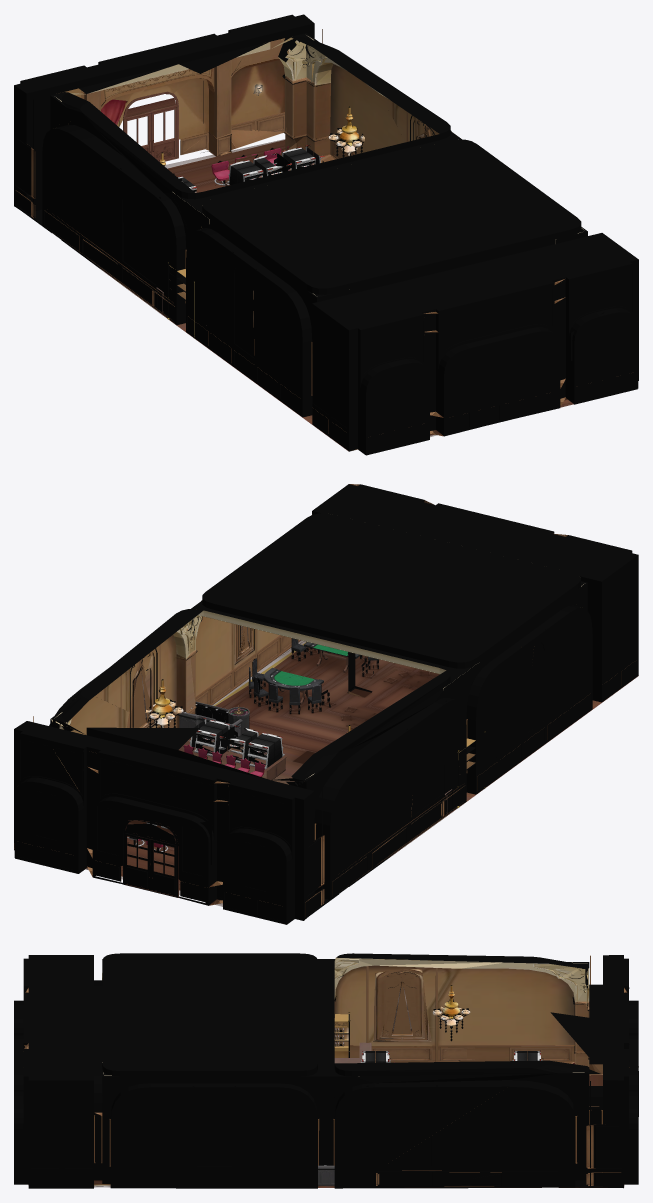
Rendered from casino-edited-uncompressed-2026-05-19.glb.
3 views of the same model, one above another, from view 1: azimuth 30°, elevation 25°; view 2: azimuth 150°, elevation 25°; view 3: azimuth 270°, elevation 25° (orthographic). The views are drawn at different scales.
Parts seen in each view (by area): view 1: Material2.001, Material3.004, Material3.006, Material3.007, Material3.005; view 2: Material2.001, Material3.006, Material3.004, Material3.007, Material3.001, Material3.005, Material2; view 3: Material2.001, Material3.004, Material3.006, Material3.005, Material3.007, Material3.001.
Boxes of the visible parts, left/top/right/bottom form: Material2.001: left=14, top=14, right=638, bottom=455; Material3.004: left=16, top=29, right=565, bottom=436; Material3.006: left=56, top=35, right=584, bottom=451; Material3.007: left=165, top=139, right=567, bottom=436; Material3.005: left=179, top=145, right=324, bottom=188; Material2.001: left=14, top=484, right=638, bottom=924; Material3.006: left=52, top=584, right=638, bottom=890; Material3.004: left=14, top=484, right=625, bottom=916; Material3.007: left=85, top=640, right=439, bottom=923; Material3.001: left=127, top=638, right=439, bottom=852; Material3.005: left=191, top=718, right=282, bottom=767; Material2: left=146, top=719, right=284, bottom=828; Material2.001: left=14, top=953, right=638, bottom=1188; Material3.004: left=23, top=955, right=629, bottom=1186; Material3.006: left=94, top=959, right=602, bottom=1187; Material3.005: left=362, top=1051, right=540, bottom=1062; Material3.007: left=28, top=1066, right=638, bottom=1187; Material3.001: left=318, top=1062, right=574, bottom=1185.
Size of the model in its own units: 485 by 203 by 1017.
Materials: 12 (11 with a texture image).
